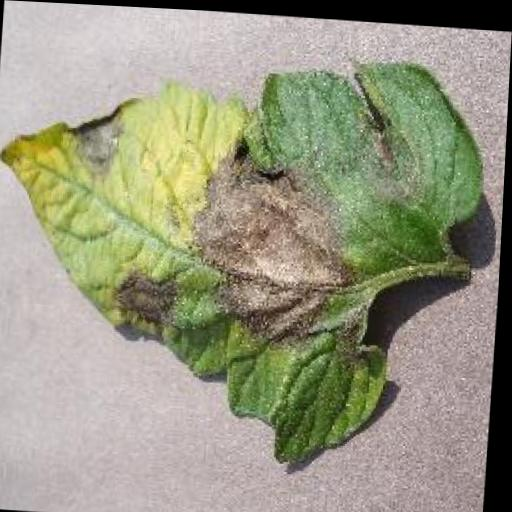Late Blight: (0, 30, 494, 474)
